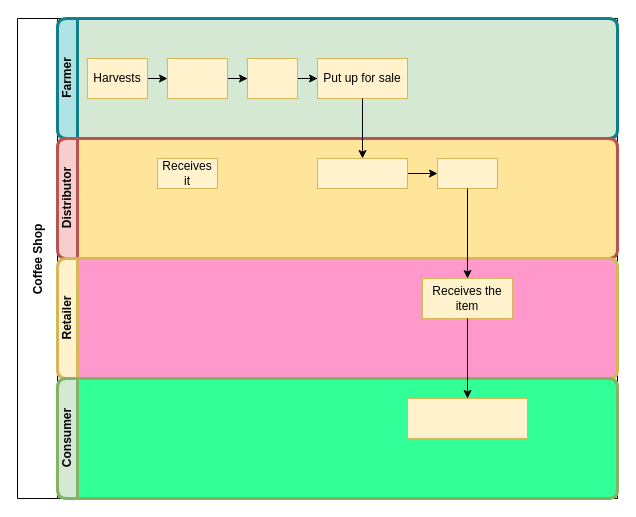
Image size: 636x517. Some labels were removed from this diagram. The shapes that lost their labels are listed below. From the top down, each one's centre as x and y in pixels, then its label:
At point (197, 78): "Process".
At point (272, 78): "Pack".
At point (362, 173): "Buys the item".
At point (467, 173): "Ships it".
At point (467, 418): "Purchases the item".
